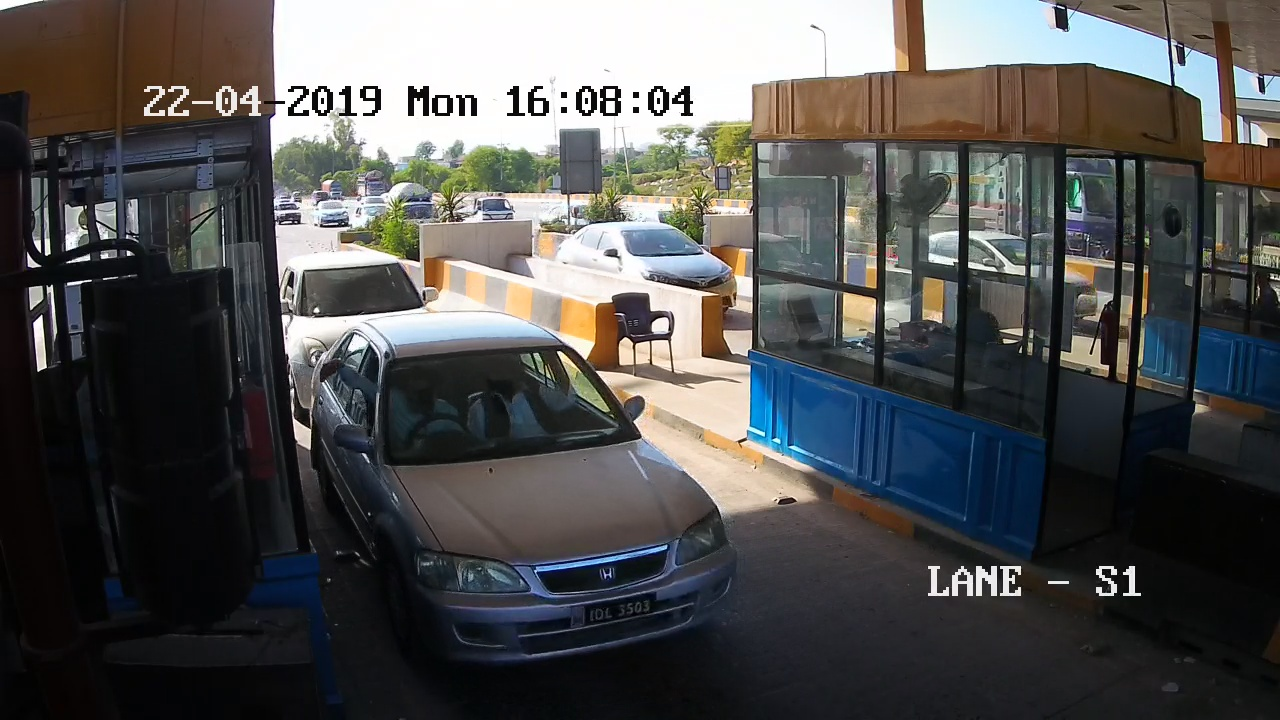Number Plate (Car): (586, 599, 652, 623)
